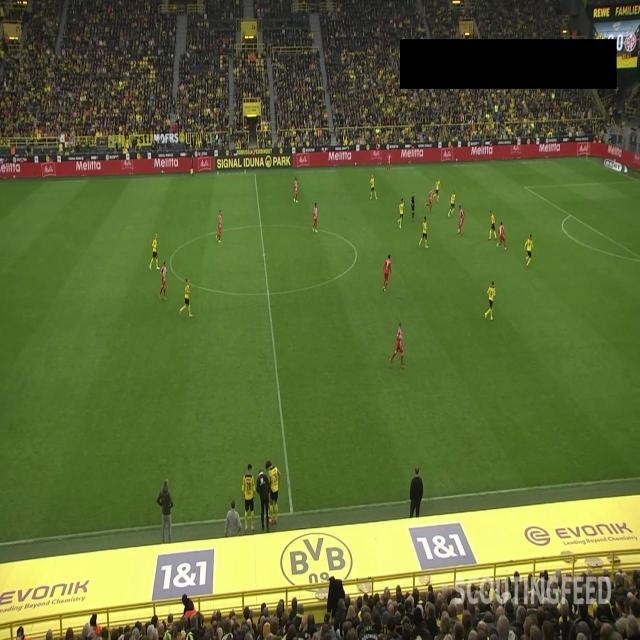arbitro: (410, 196, 416, 220)
football: (458, 229, 461, 236)
jogador: (392, 321, 405, 360), (180, 278, 192, 318), (484, 282, 496, 320), (148, 233, 160, 270), (382, 256, 392, 292), (158, 263, 168, 299), (524, 234, 534, 266), (419, 218, 429, 248), (497, 220, 507, 249), (488, 211, 497, 240), (216, 209, 223, 242), (369, 175, 378, 200), (397, 199, 405, 227), (448, 189, 456, 217), (292, 177, 300, 203), (425, 190, 434, 212), (458, 207, 464, 236), (312, 204, 318, 232), (434, 178, 441, 199), (386, 154, 392, 171)
